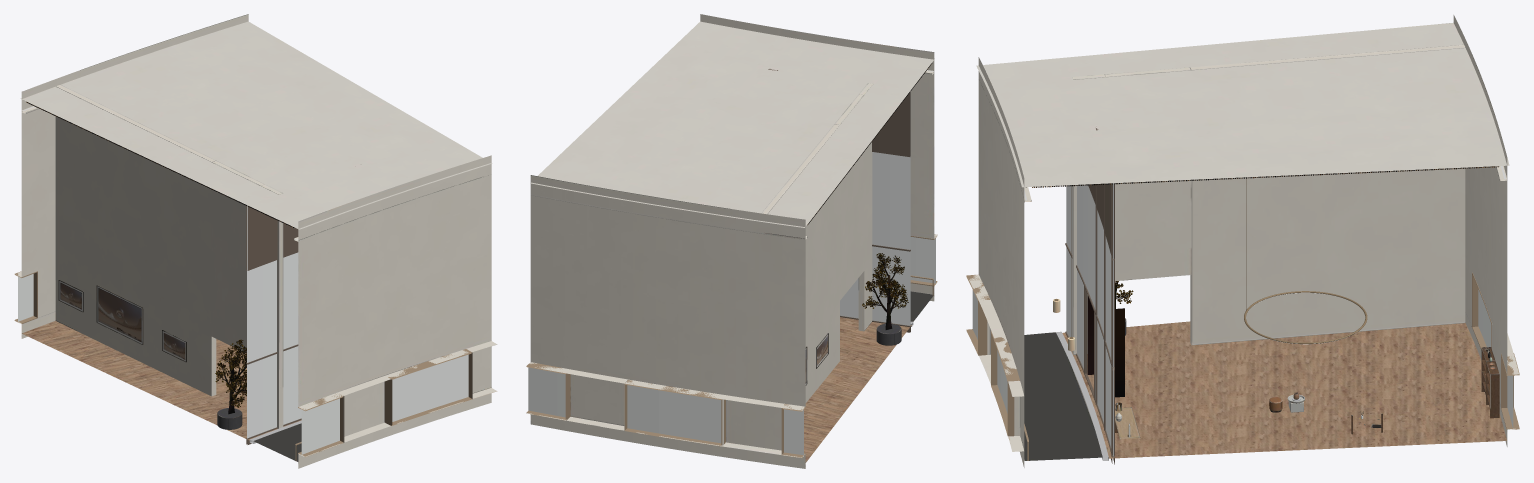
3 views of the same model, side by side, from view 1: azimuth 30°, elevation 25°; view 2: azimuth 150°, elevation 25°; view 3: azimuth 270°, elevation 25° (orthographic). The views are drawn at different scales.
Visible parts, largest first — view 1: c3480, c3480 leaves; view 2: c3480, c3480 leaves; view 3: c3480, c3480 leaves.
Boxes of the visible parts, x1=… form: c3480: x1=14, y1=14, x2=497, y2=468; c3480 leaves: x1=26, y1=102, x2=294, y2=414; c3480: x1=526, y1=14, x2=937, y2=468; c3480 leaves: x1=807, y1=63, x2=932, y2=329; c3480: x1=966, y1=15, x2=1519, y2=467; c3480 leaves: x1=1032, y1=166, x2=1498, y2=411.
Bounding box in the file's own units: 16.59 × 13.21 × 22.8.
13 materials, 1 textured.
